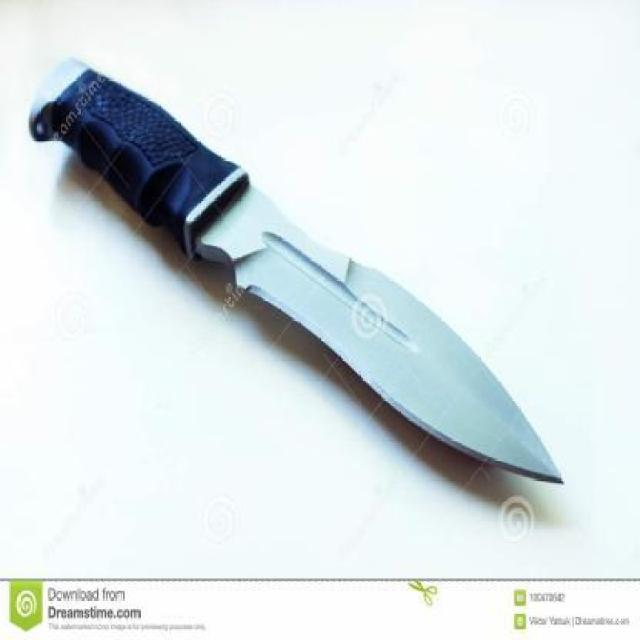weapon: (3, 55, 579, 503)
